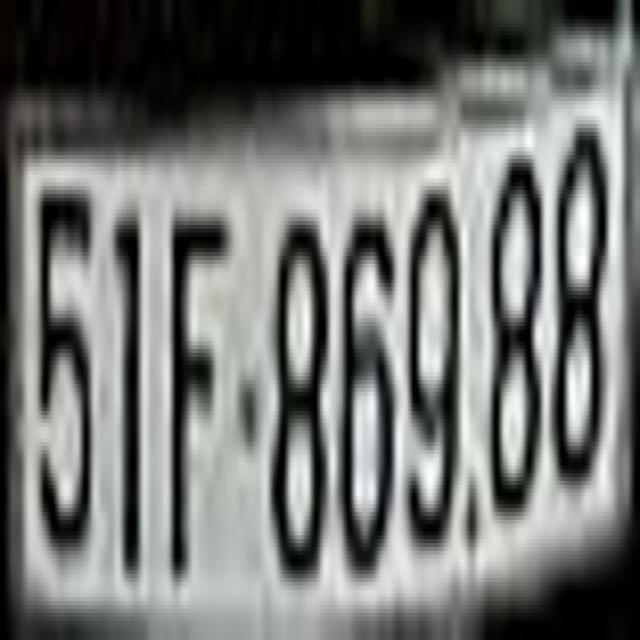1: (112, 194, 144, 578)
5: (36, 168, 94, 552)
6: (341, 198, 394, 570)
8: (272, 196, 328, 584), (552, 112, 606, 492), (489, 142, 542, 522)
9: (406, 175, 460, 554)
F: (168, 196, 228, 580)
